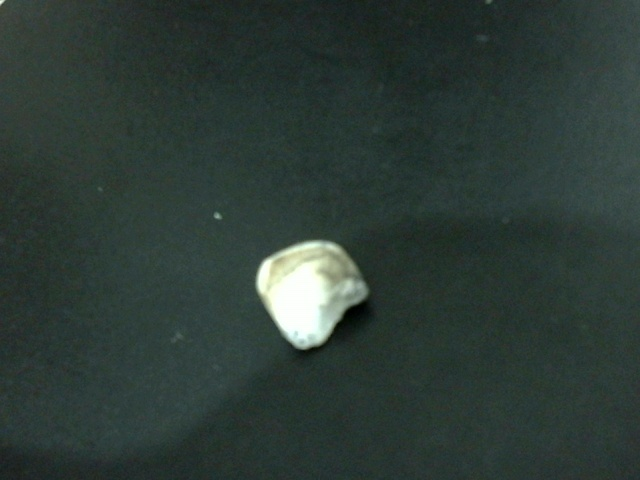eraser: (224, 223, 382, 351)
